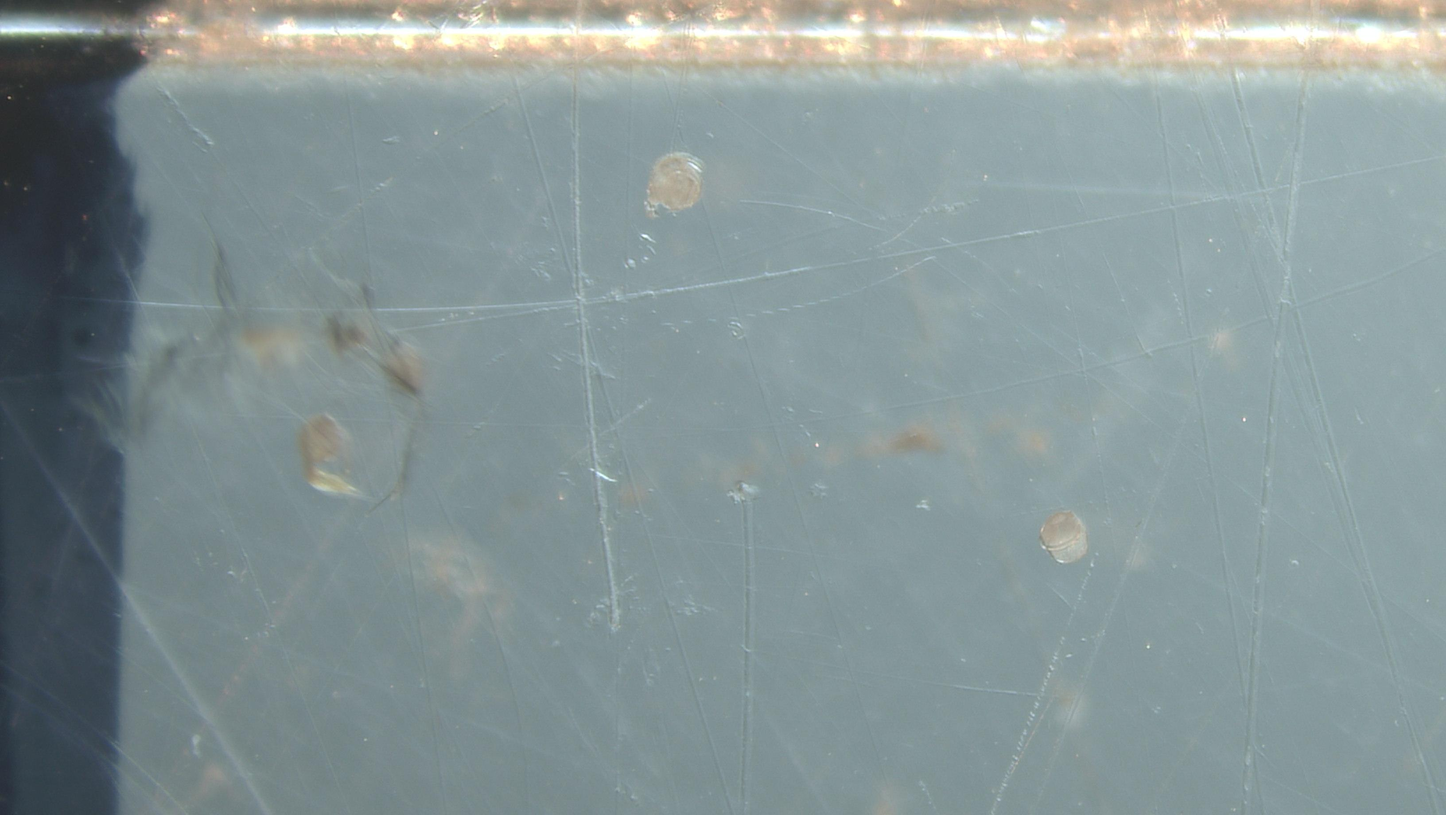dead: (1053, 533, 1088, 563)
live: (1041, 511, 1084, 555)
